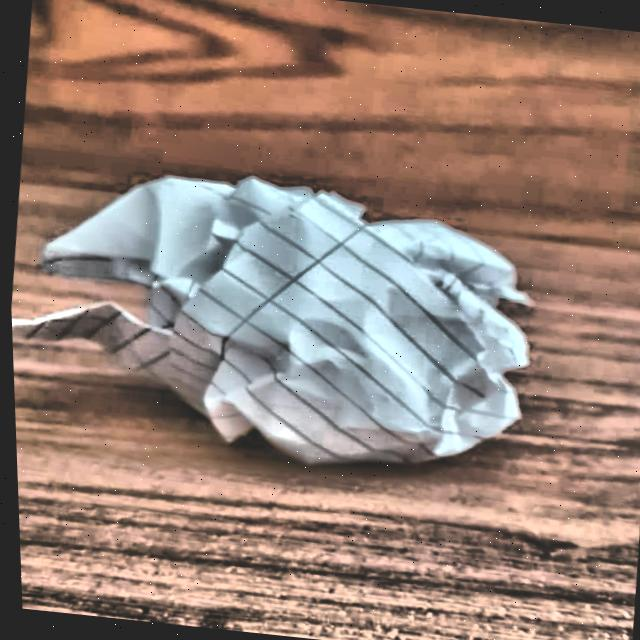paper: (4, 138, 561, 488)
